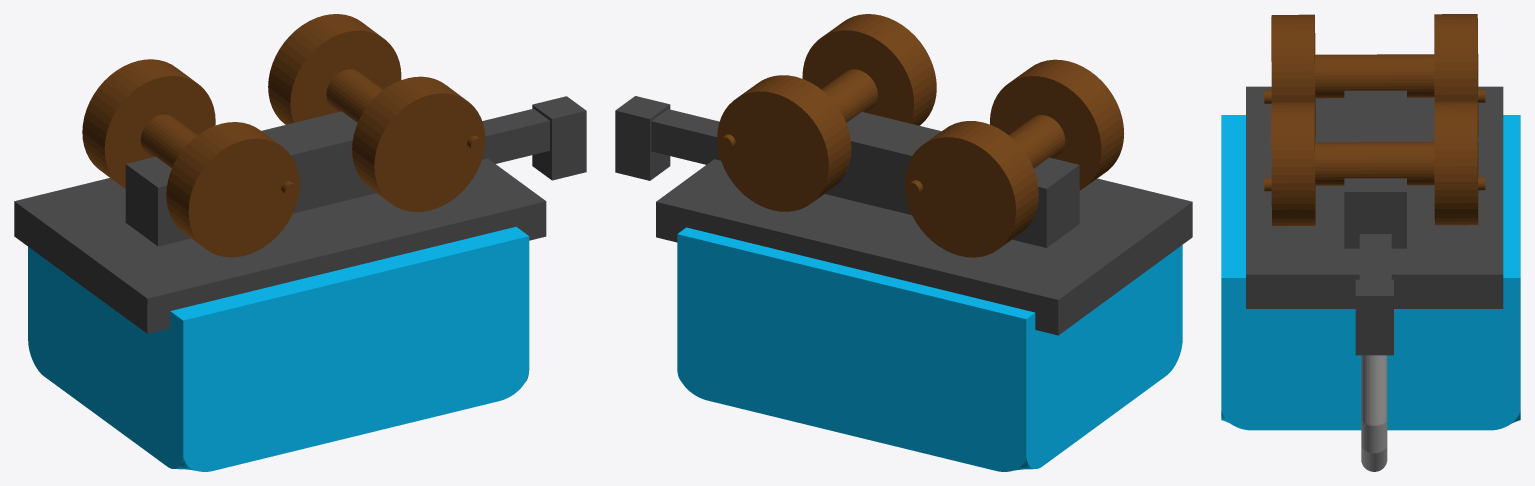
The model's file is chexiang2(1).fbx.
3 views of the same model, side by side, from view 1: azimuth 30°, elevation 25°; view 2: azimuth 150°, elevation 25°; view 3: azimuth 270°, elevation 25° (orthographic). The views are drawn at different scales.
Visible parts, largest first — view 1: Cube.002, Cube, Cube.003, Cube.000, Cube.001; view 2: Cube.002, Cube, Cube.003, Cube.000, Cube.001; view 3: Cube.002, Cube, Cube.000, Cube.003, Cube.001, Cylinder.
Boxes of the visible parts, x1,y1,x2,y2 form: Cube.002: (28, 227, 529, 471); Cube: (14, 111, 546, 333); Cube.003: (82, 59, 299, 257); Cube.000: (268, 14, 485, 211); Cube.001: (482, 96, 586, 180); Cube.002: (677, 227, 1182, 471); Cube: (656, 112, 1192, 335); Cube.003: (904, 59, 1124, 257); Cube.000: (717, 14, 936, 211); Cube.001: (615, 96, 720, 180); Cube.002: (1221, 115, 1520, 430); Cube: (1246, 86, 1503, 308); Cube.000: (1264, 101, 1485, 225); Cube.003: (1264, 14, 1485, 137); Cube.001: (1355, 234, 1393, 355); Cylinder: (1361, 355, 1387, 471).
Size of the model in its own units: 785 by 524 by 425.
